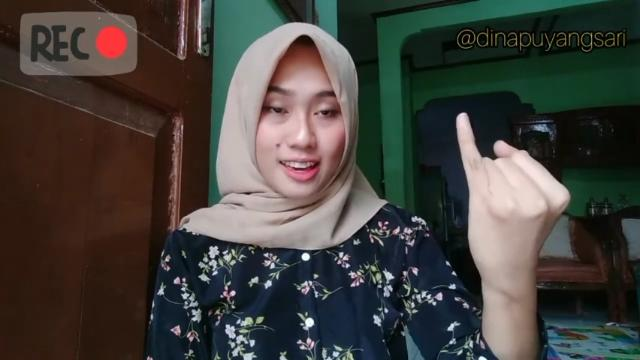J: (455, 111, 573, 289)
